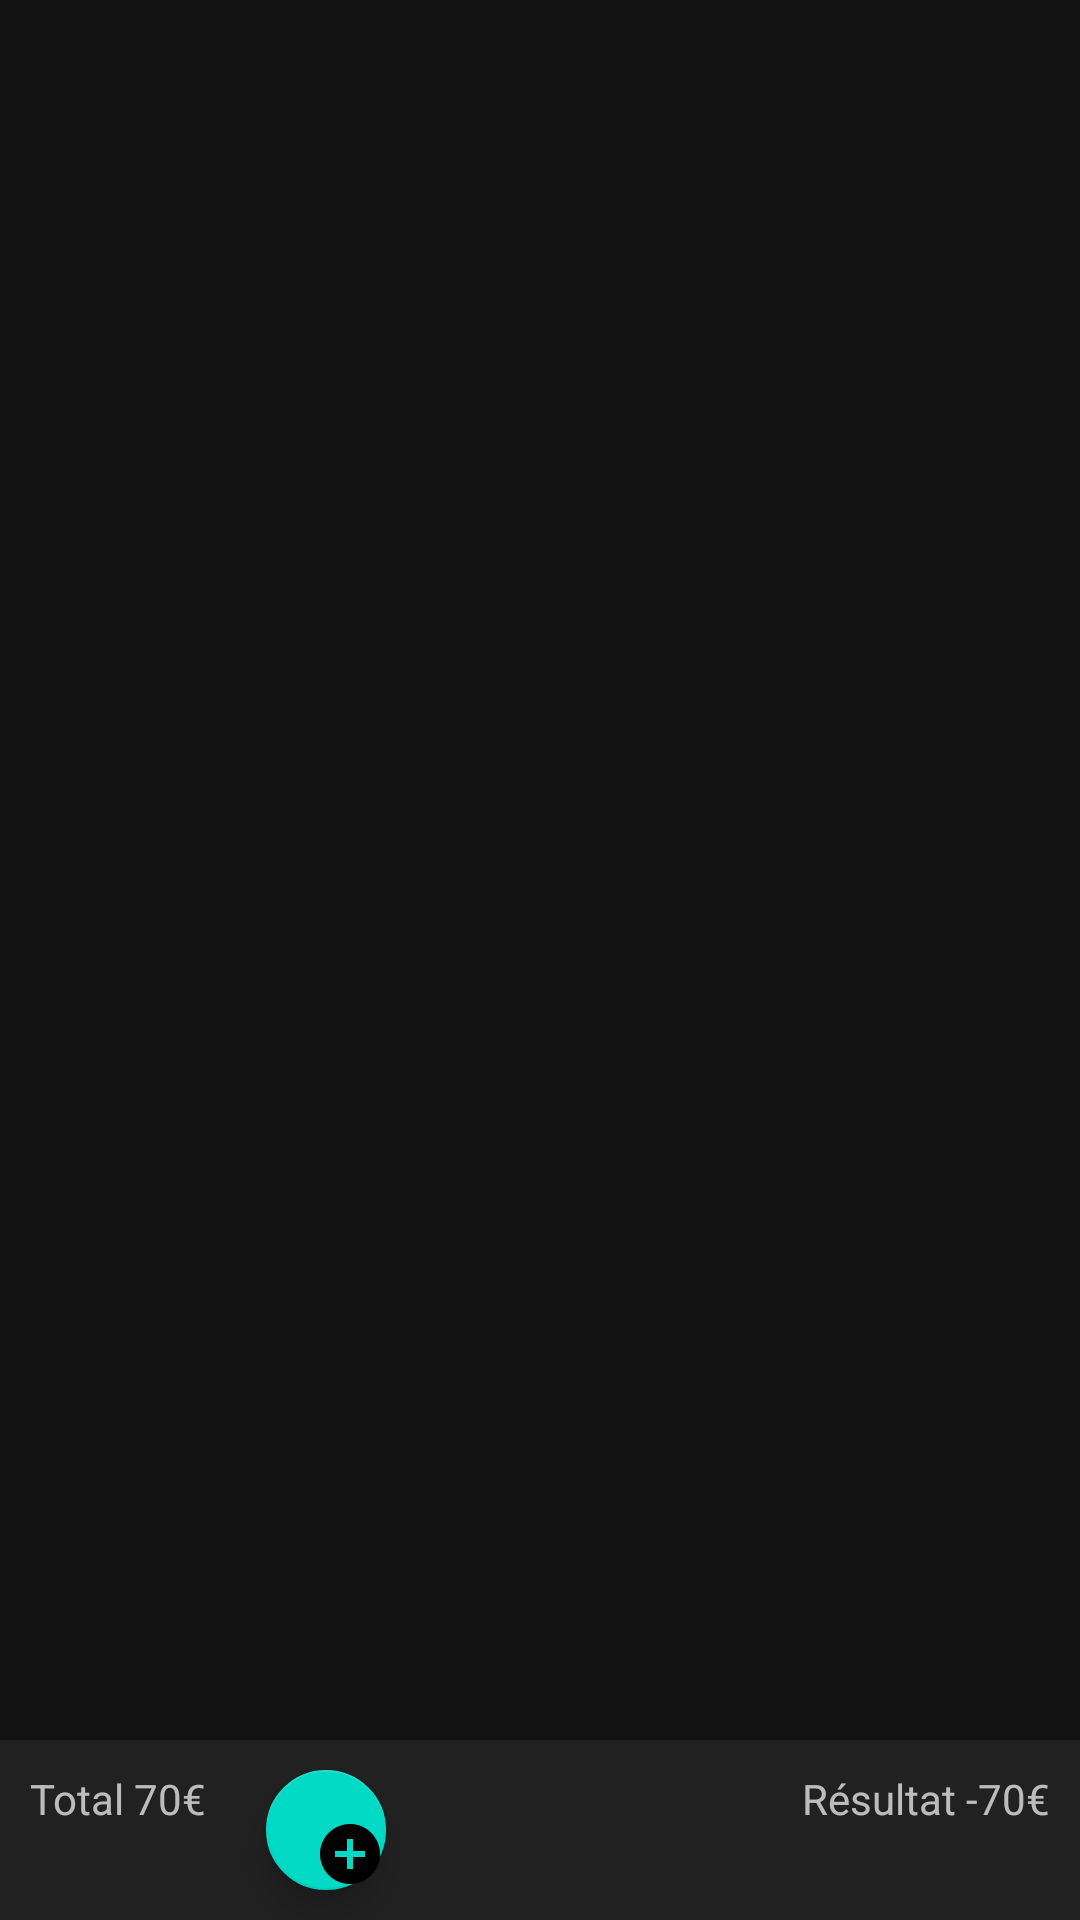

Screen size 1080 x 1920. Icon name, then its center in pixels as (x=x, y=y):
add circle: (x=326, y=1830)
